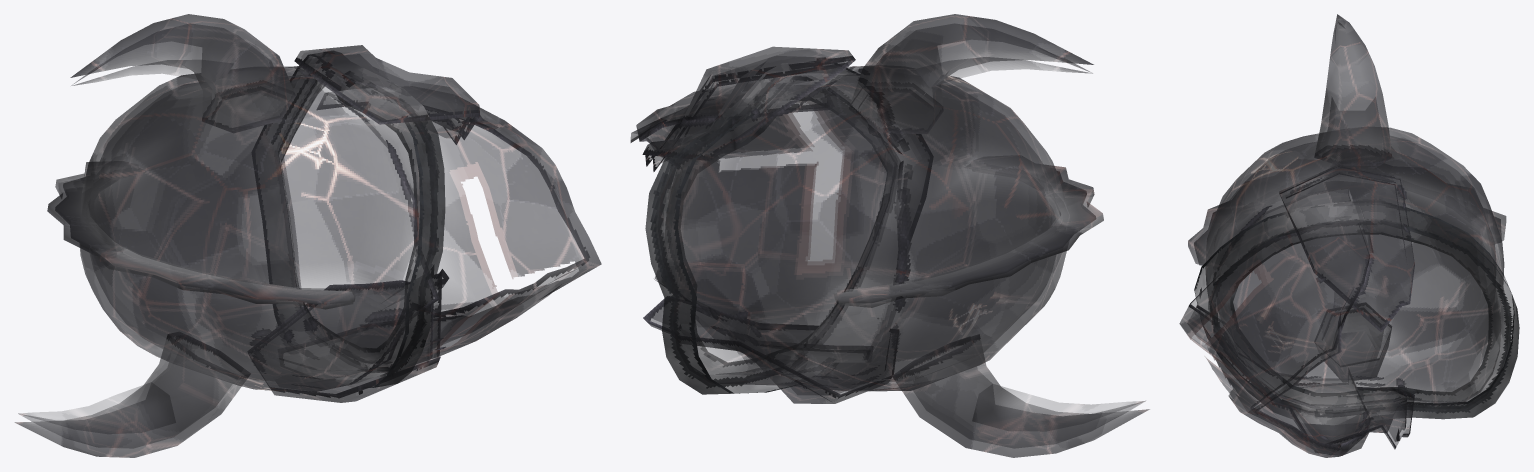
File: casque_obsidienne.glb
3 renders of one model, left to right at view 1: azimuth 30°, elevation 25°; view 2: azimuth 150°, elevation 25°; view 3: azimuth 270°, elevation 25°, orthographic. The views are drawn at different scales.
Visible parts, largest first — view 1: casque_obsidienne.001; view 2: casque_obsidienne.001; view 3: casque_obsidienne.001.
Part boxes in pixels (bbox=[...]): casque_obsidienne.001: bbox=[15, 14, 601, 457]; casque_obsidienne.001: bbox=[630, 14, 1149, 457]; casque_obsidienne.001: bbox=[1179, 14, 1519, 457].
Size of the model in its own units: 0.387 by 0.2946 by 0.2647.
Materials: 2 (2 with a texture image).
